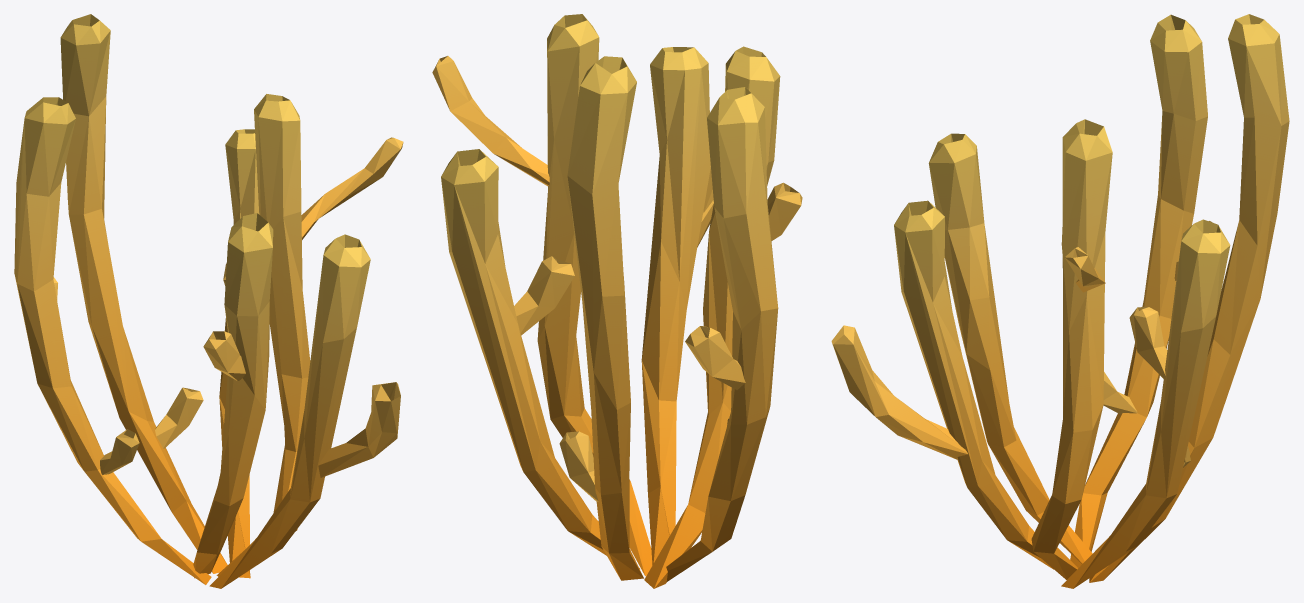
File: SM_Spongia_19.fbx
The picture shows the model from 3 angles, left to right: view 1: azimuth 30°, elevation 25°; view 2: azimuth 150°, elevation 25°; view 3: azimuth 270°, elevation 25°; orthographic projection. The views are drawn at different scales.
Visible parts, largest first — view 1: Spongia_19; view 2: Spongia_19; view 3: Spongia_19.
Part boxes in pixels (x1,y1,x2,y2): Spongia_19: [14, 14, 403, 588]; Spongia_19: [432, 14, 802, 588]; Spongia_19: [831, 14, 1289, 588].
Bounding box in the file's own units: 87.27 × 125 × 98.02.
